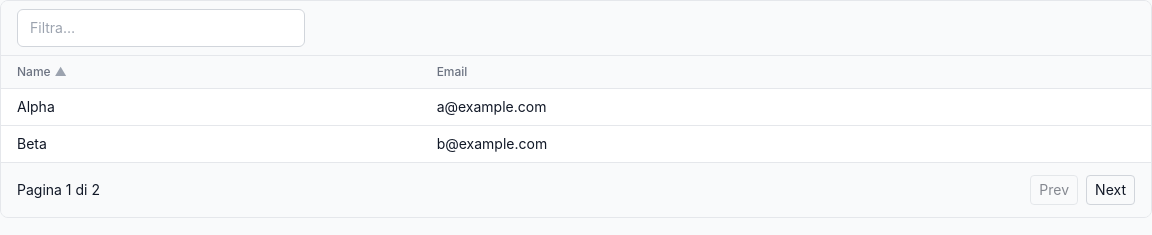
DataTable › filters using the built-in filter input
Type "char" into the search field labelled "Filtra…" at (161, 28), box [17,9,305,47]
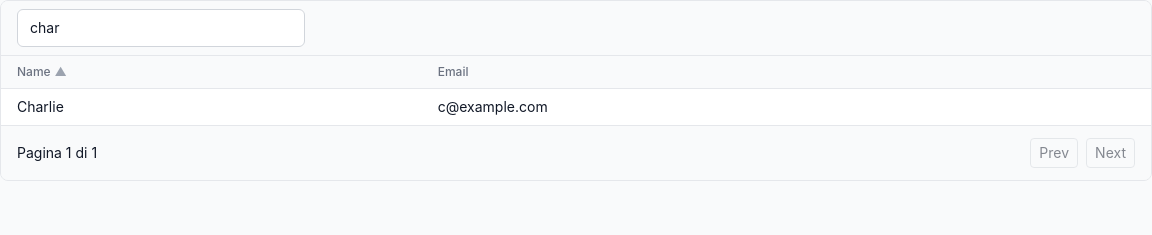
Check: the cell "Charlie" is shown, box [1,88,422,125]
